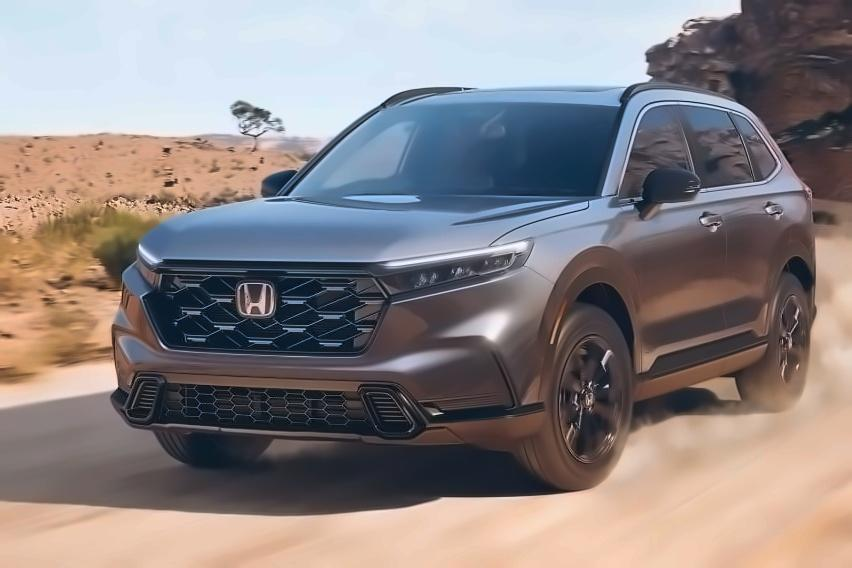Car hood: (134, 192, 593, 271)
Fender - -F-L-: (501, 187, 665, 387)
Fender - -R-L-: (759, 140, 823, 321)
Front bumper: (108, 258, 577, 451)
Headlight - -L-: (373, 234, 540, 304)
Headlight - -R-: (127, 238, 160, 292)
Passenger-s door - -F-L-: (606, 61, 744, 406)
Passenger-s door - -R-L-: (680, 61, 788, 392)
Side bumper - -L-: (628, 308, 779, 429)
Side mirror - -L-: (629, 161, 705, 229)
Side mirror - -R-: (256, 166, 302, 201)
